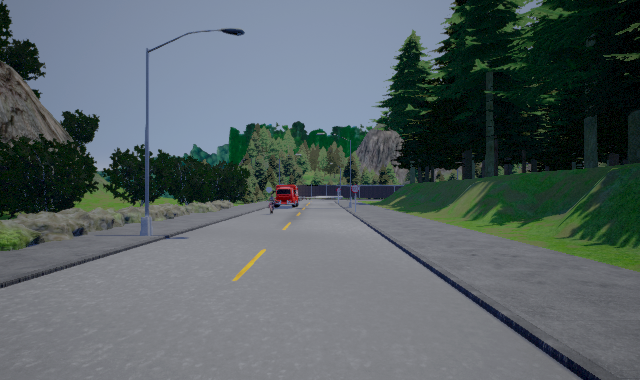traffic_sign: (350, 185, 361, 193)
vehicle: (274, 185, 299, 209)
